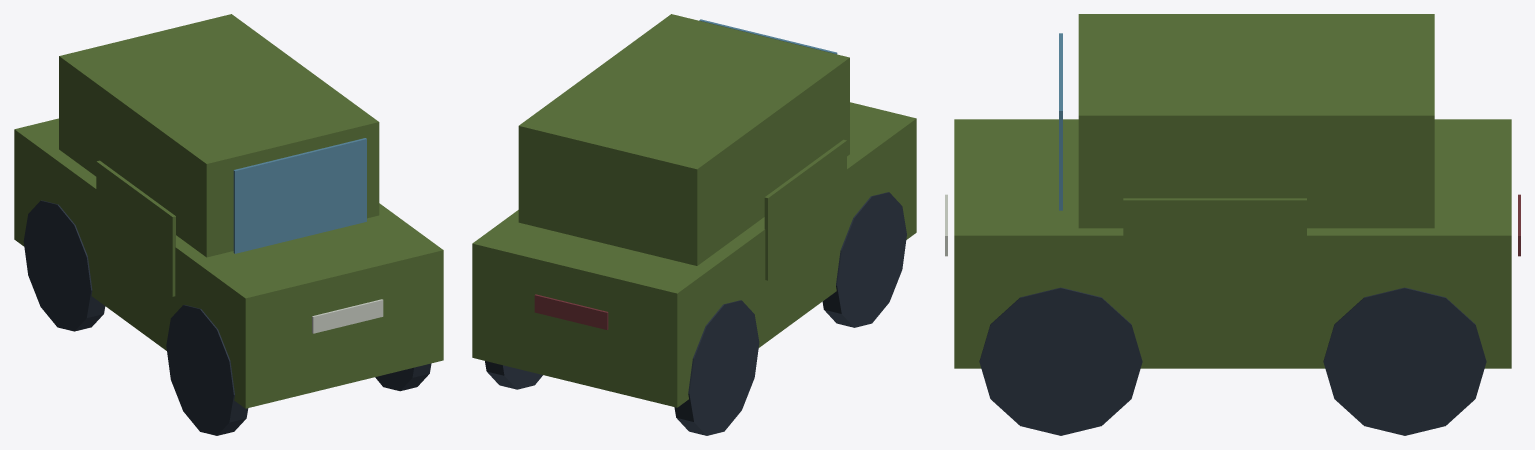
Rendered from tractor.glb.
3 renders of one model, left to right at view 1: azimuth 30°, elevation 25°; view 2: azimuth 150°, elevation 25°; view 3: azimuth 270°, elevation 25°, orthographic. The views are drawn at different scales.
Parts seen in each view (by area): view 1: object 1, wheel_front, wheel_rear, door_left, wheel_front_right; view 2: object 1, wheel_rear, wheel_front, door_left, wheel_rear_right; view 3: object 1, wheel_front_right, wheel_rear_right, door_right.
Part boxes in pixels (box(x1,y1,x2,y2)): object 1: box(14, 14, 443, 408); wheel_front: box(166, 305, 248, 435); wheel_rear: box(23, 200, 105, 331); door_left: box(96, 160, 175, 296); wheel_front_right: box(375, 363, 431, 391); object 1: box(472, 14, 916, 407); wheel_rear: box(674, 300, 759, 435); wheel_front: box(822, 192, 906, 327); door_left: box(764, 139, 846, 280); wheel_rear_right: box(485, 361, 542, 389); object 1: box(945, 14, 1520, 368); wheel_front_right: box(979, 287, 1142, 435); wheel_rear_right: box(1323, 287, 1486, 435); door_right: box(1123, 198, 1306, 296).
Size of the model in its own units: 1.53 by 1.86 by 3.11.
1 material, 1 textured.
